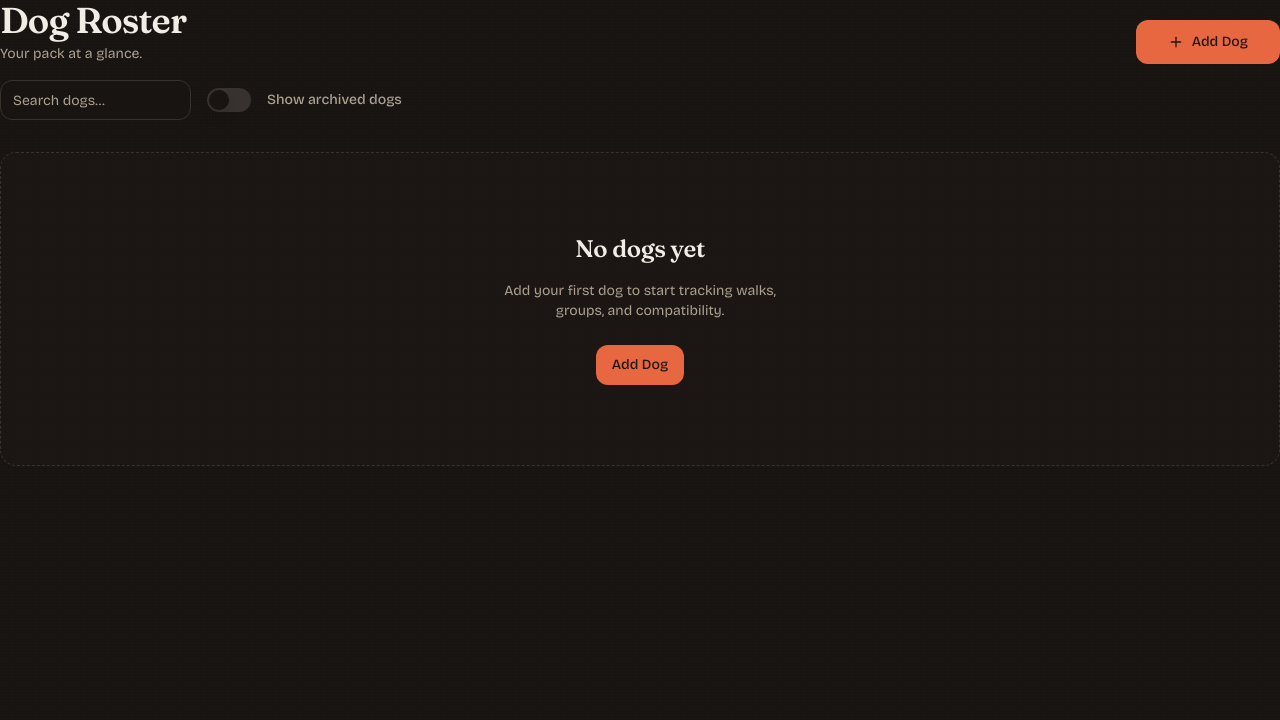
Scenario: DogRoster - Add flow › clicking "Add Dog" opens panel with title "Add Dog"
Click the button "Add Dog" in the row of "Dog Roster" at (1208, 42), box [1136,20,1279,64]
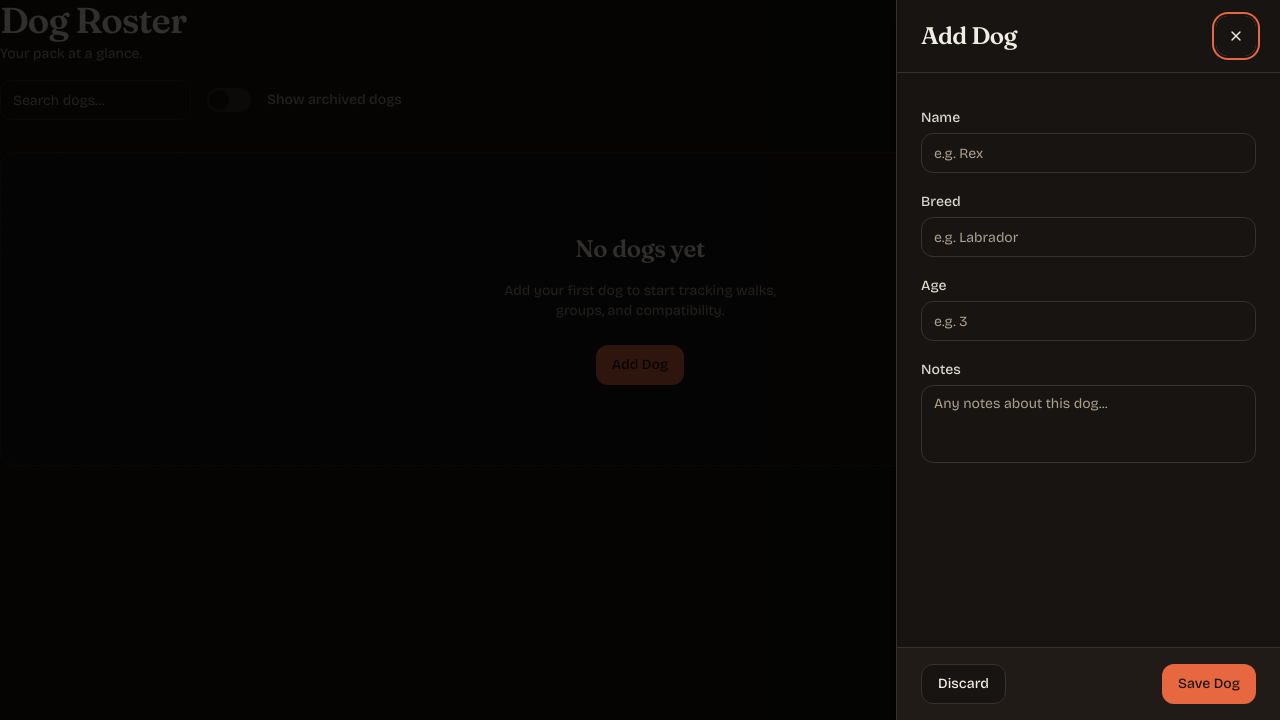
Check: the heading "Add Dog" is shown, box [921,20,1017,52]
